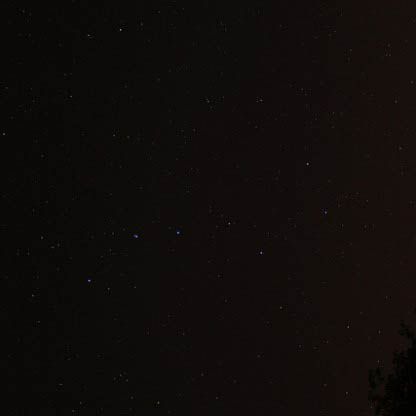Ursa Major: (75, 271, 103, 294), (122, 224, 147, 248), (214, 209, 238, 232), (170, 221, 191, 243), (298, 155, 319, 175), (313, 199, 332, 221), (257, 240, 270, 262)
